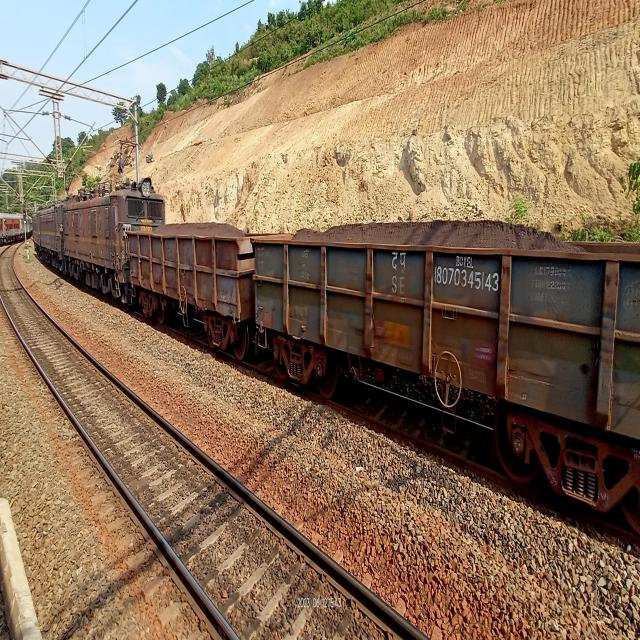train: (33, 187, 640, 488), (0, 197, 21, 260)
